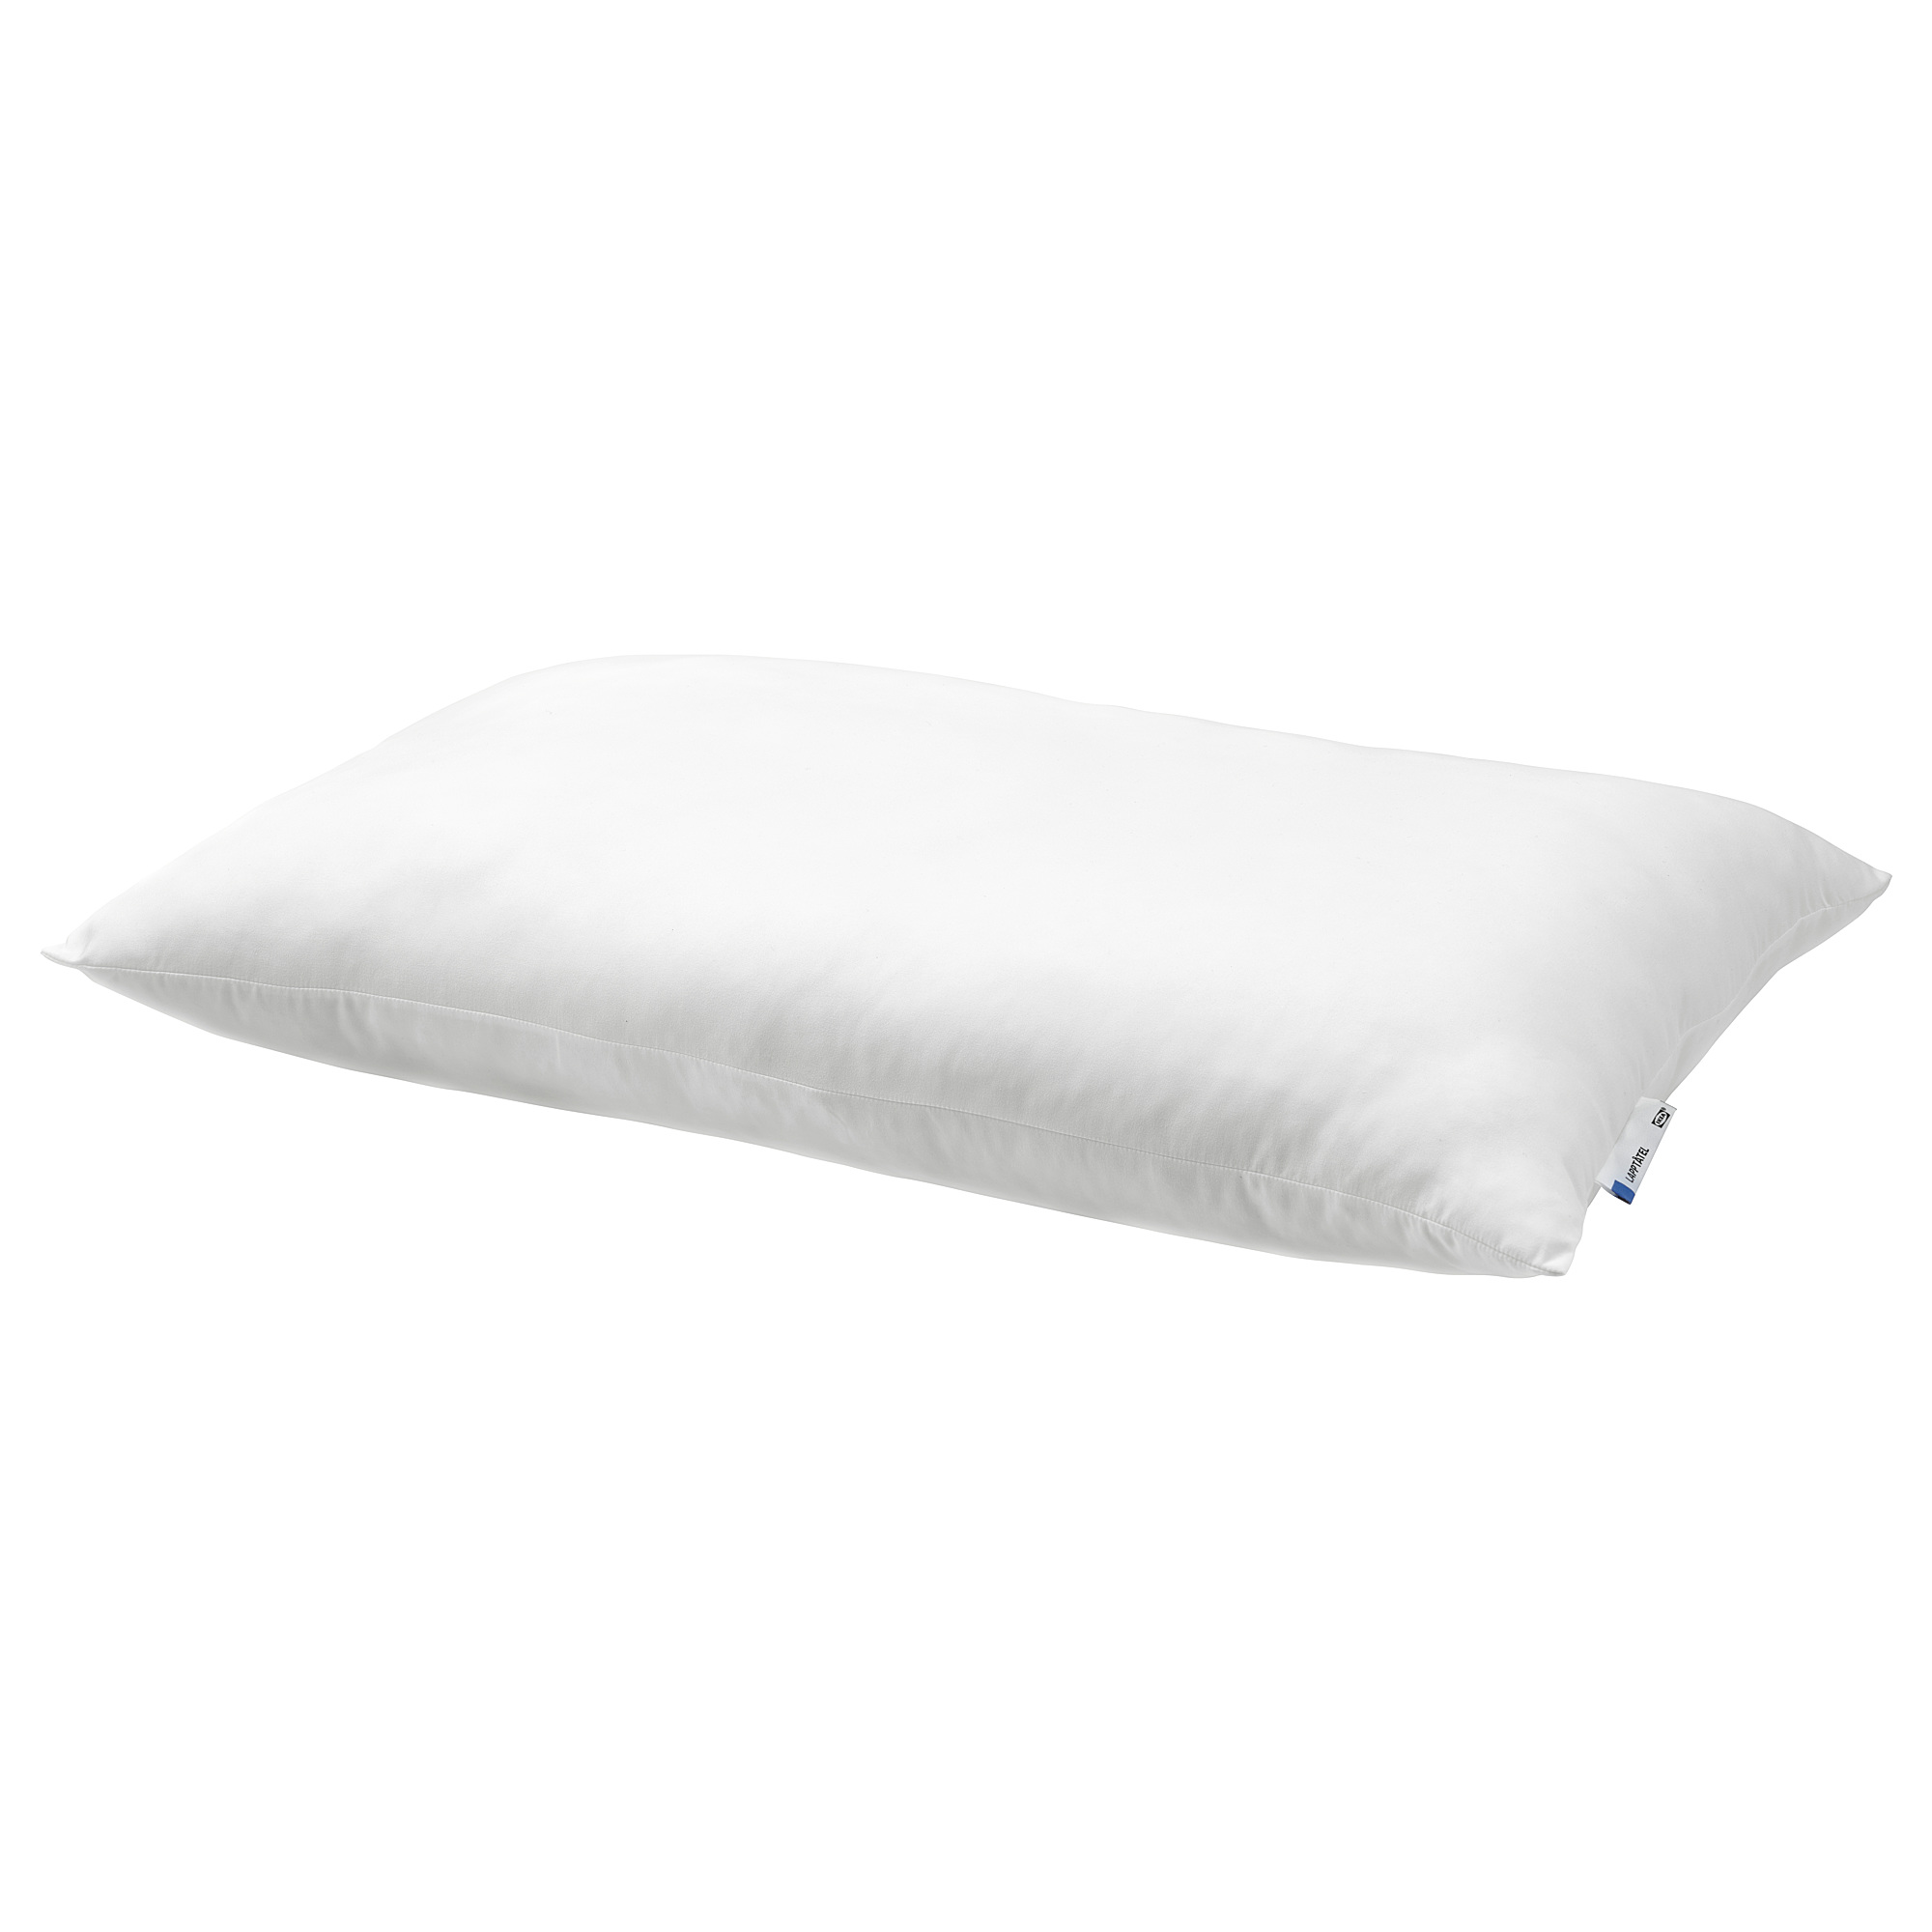bantal: (34, 564, 1909, 1306)
